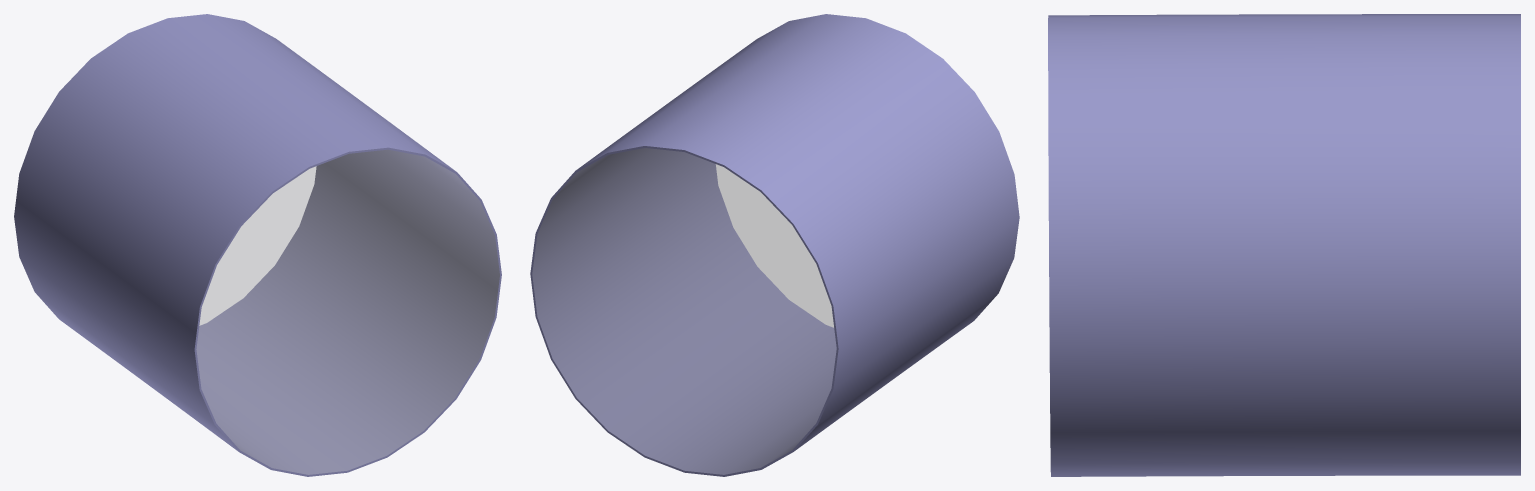
Rendered from EDCBellow.gltf.
3 renders of one model, left to right at view 1: azimuth 30°, elevation 25°; view 2: azimuth 150°, elevation 25°; view 3: azimuth 270°, elevation 25°, orthographic. The views are drawn at different scales.
Parts seen in each view (by area): view 1: EDCBellow0x224c650, EDCBellowVac0x223bf40; view 2: EDCBellow0x224c650, EDCBellowVac0x223bf40; view 3: EDCBellow0x224c650.
Boxes of the visible parts, x1,y1,x2,y2 form: EDCBellow0x224c650: [14, 14, 501, 476]; EDCBellowVac0x223bf40: [196, 150, 499, 474]; EDCBellow0x224c650: [530, 14, 1019, 476]; EDCBellowVac0x223bf40: [532, 148, 836, 474]; EDCBellow0x224c650: [1048, 14, 1520, 476].
Bounding box in the file's own units: 30.48 × 30.58 × 31.1.
